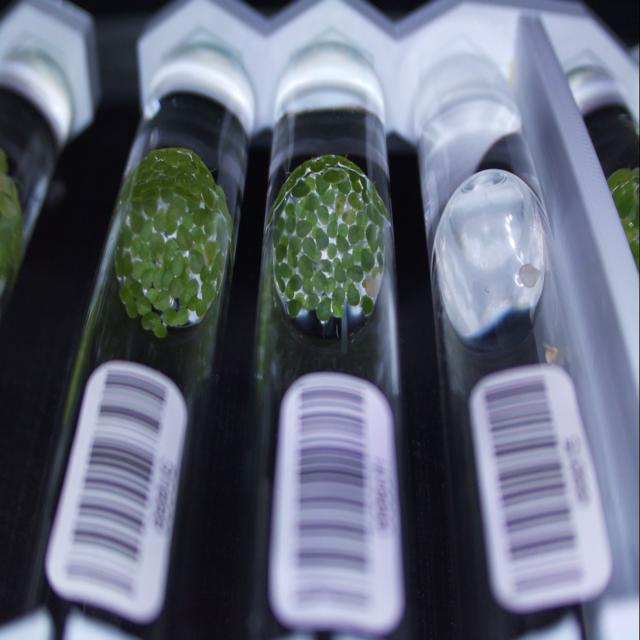Lemna-Gibba: (150, 148, 179, 190), (131, 157, 156, 199), (174, 173, 204, 203), (181, 155, 211, 185), (122, 210, 151, 240), (131, 187, 159, 217), (368, 182, 390, 220), (141, 312, 168, 339), (298, 255, 315, 294), (192, 208, 216, 235), (154, 210, 178, 235), (140, 269, 158, 302), (120, 287, 138, 319), (519, 264, 541, 289), (302, 237, 321, 264), (131, 237, 150, 262), (284, 274, 302, 299), (331, 287, 345, 319), (154, 267, 174, 289), (365, 223, 379, 254), (186, 250, 204, 274), (168, 195, 186, 219), (115, 252, 132, 277), (321, 168, 349, 183), (176, 225, 192, 251), (316, 295, 331, 322), (218, 197, 231, 228), (124, 277, 142, 299), (152, 290, 170, 312), (188, 295, 206, 317), (210, 252, 224, 280), (312, 227, 329, 250), (202, 187, 219, 210), (120, 177, 135, 203), (366, 203, 382, 227), (361, 247, 375, 274), (149, 232, 165, 255), (204, 240, 219, 264), (332, 257, 346, 282), (170, 252, 184, 277), (348, 225, 365, 245), (175, 148, 192, 168), (274, 217, 285, 247), (169, 277, 184, 299), (302, 292, 320, 310), (291, 180, 309, 198), (171, 307, 189, 325), (190, 227, 208, 245), (135, 295, 151, 315), (285, 203, 296, 232), (165, 237, 179, 259), (201, 282, 215, 304), (131, 260, 146, 280), (312, 270, 326, 291), (275, 262, 292, 279), (304, 193, 320, 211), (162, 307, 178, 325), (315, 175, 329, 195), (348, 284, 360, 307), (162, 248, 175, 269), (348, 265, 364, 282), (296, 220, 312, 237), (290, 163, 308, 178), (184, 279, 199, 297), (159, 185, 174, 203), (288, 299, 302, 318), (336, 235, 350, 254), (274, 243, 288, 262), (361, 295, 374, 315), (145, 254, 162, 269), (121, 225, 132, 248), (289, 235, 301, 255), (322, 277, 336, 294), (342, 208, 356, 225), (321, 188, 335, 205), (348, 165, 362, 182), (341, 252, 354, 270), (278, 182, 291, 200), (181, 212, 194, 230), (335, 193, 346, 214), (310, 157, 325, 172), (348, 192, 362, 208), (321, 155, 339, 167), (296, 200, 308, 218), (318, 259, 332, 274), (318, 205, 329, 224), (200, 265, 211, 284), (356, 212, 369, 228), (212, 182, 225, 198), (146, 287, 158, 304), (179, 289, 190, 307), (328, 218, 338, 237), (275, 267, 284, 287), (180, 267, 190, 285), (376, 252, 384, 274), (378, 227, 385, 252), (288, 250, 298, 267), (338, 180, 351, 193), (274, 200, 286, 214), (338, 223, 349, 238), (284, 173, 295, 188), (338, 155, 351, 167), (352, 247, 362, 262), (189, 202, 200, 215), (305, 177, 315, 190), (180, 259, 189, 273), (116, 240, 125, 254), (361, 177, 370, 190), (309, 212, 318, 225), (295, 294, 305, 305), (351, 182, 362, 192), (360, 193, 371, 202), (281, 235, 289, 245), (182, 269, 189, 280), (330, 210, 338, 218), (366, 207, 370, 215), (128, 302, 130, 314), (160, 255, 164, 261)
